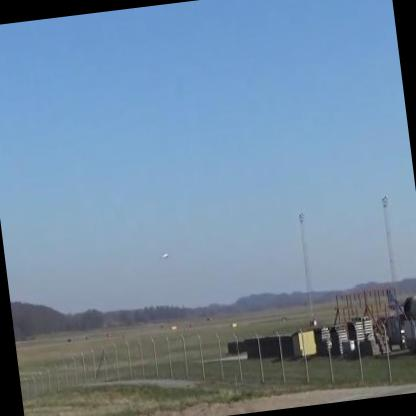plane: (157, 249, 171, 264)
